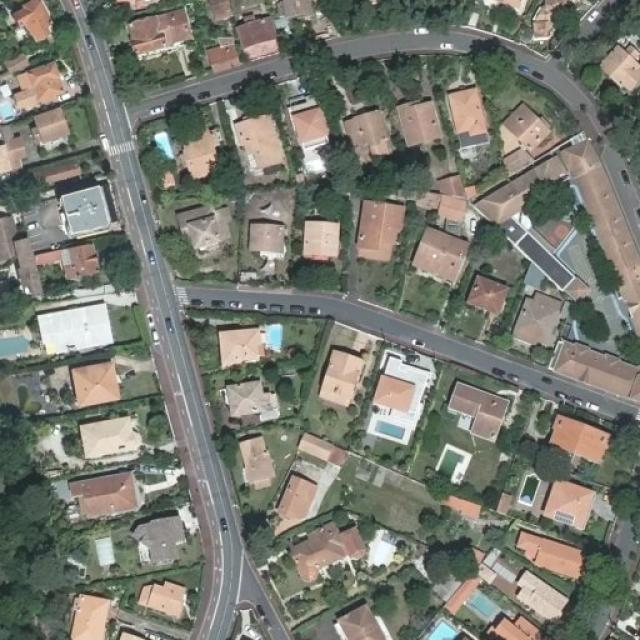immeuble: (484, 140, 640, 326), (551, 331, 640, 405), (27, 298, 124, 358), (130, 512, 194, 570), (58, 182, 116, 237)
maison: (289, 512, 369, 584), (514, 520, 590, 586), (440, 378, 518, 440), (31, 235, 109, 287), (370, 353, 430, 419), (542, 413, 620, 462), (168, 203, 240, 256), (66, 472, 144, 519), (73, 415, 147, 462), (354, 196, 404, 265), (317, 340, 365, 410), (268, 466, 322, 526), (10, 60, 74, 110), (173, 121, 224, 183), (234, 430, 282, 494), (331, 590, 392, 640), (130, 576, 196, 622), (61, 584, 113, 640), (222, 374, 280, 422), (68, 361, 125, 408), (546, 472, 592, 530), (597, 32, 640, 92), (297, 427, 353, 473), (212, 326, 270, 370), (130, 15, 194, 54), (477, 605, 548, 640), (516, 294, 566, 342), (448, 80, 490, 136), (26, 108, 80, 151), (414, 231, 468, 274), (238, 121, 284, 171), (299, 218, 347, 265), (469, 265, 512, 317), (290, 95, 332, 148), (244, 212, 290, 258), (423, 177, 469, 223), (504, 108, 551, 152), (348, 114, 392, 157), (402, 104, 445, 144), (9, 4, 52, 42), (238, 22, 281, 54), (208, 40, 238, 73)
piscine: (410, 604, 466, 640), (428, 444, 468, 488), (508, 468, 547, 511), (464, 577, 502, 621), (0, 324, 37, 367), (261, 314, 295, 357), (148, 124, 180, 166), (1, 89, 20, 127)
